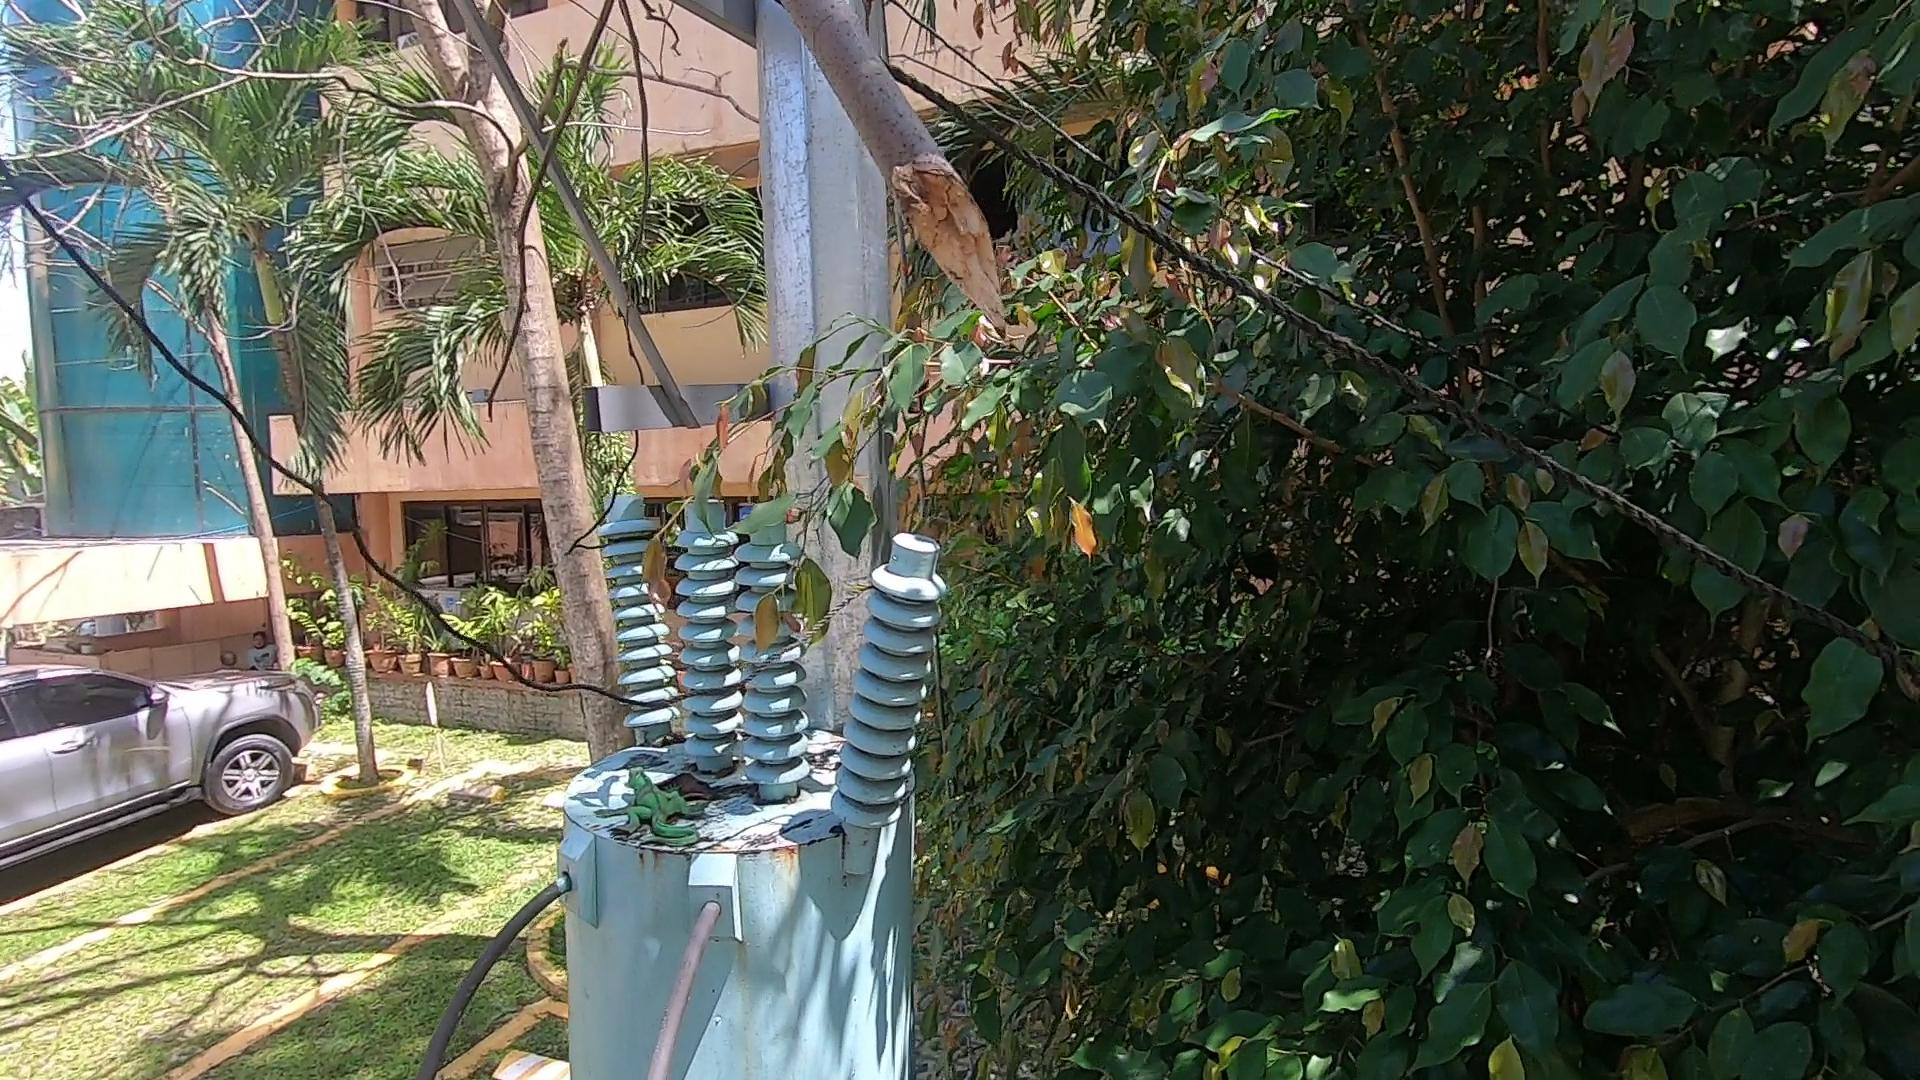branch with leaves: (636, 351, 897, 699)
leaf: (800, 742, 858, 786), (654, 771, 727, 804), (637, 732, 688, 752)
tree branch: (716, 5, 1040, 338)
